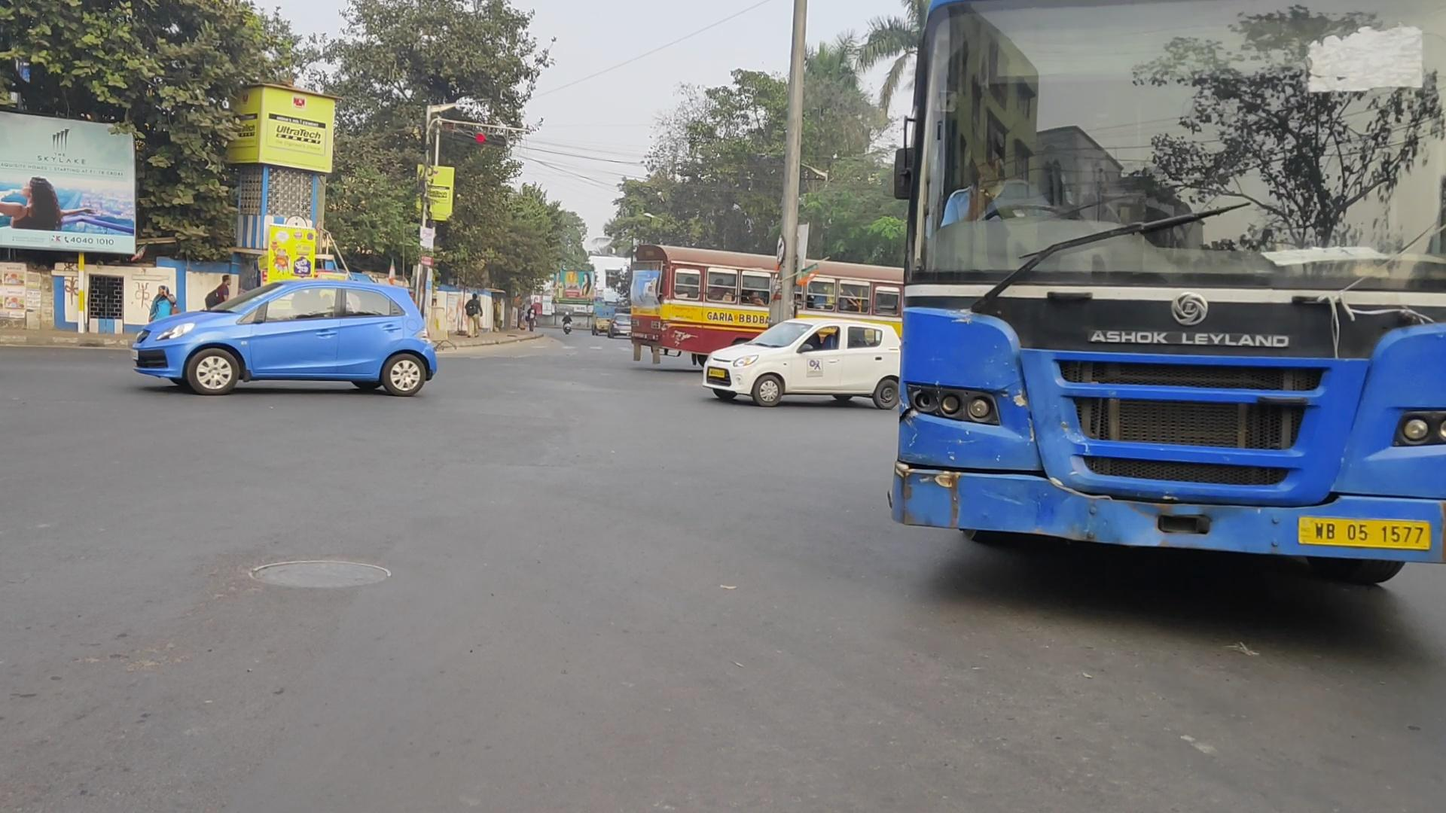Bus: (889, 1, 1446, 594), (629, 240, 907, 376)
car: (133, 278, 438, 397), (703, 316, 908, 410), (607, 312, 634, 340)
